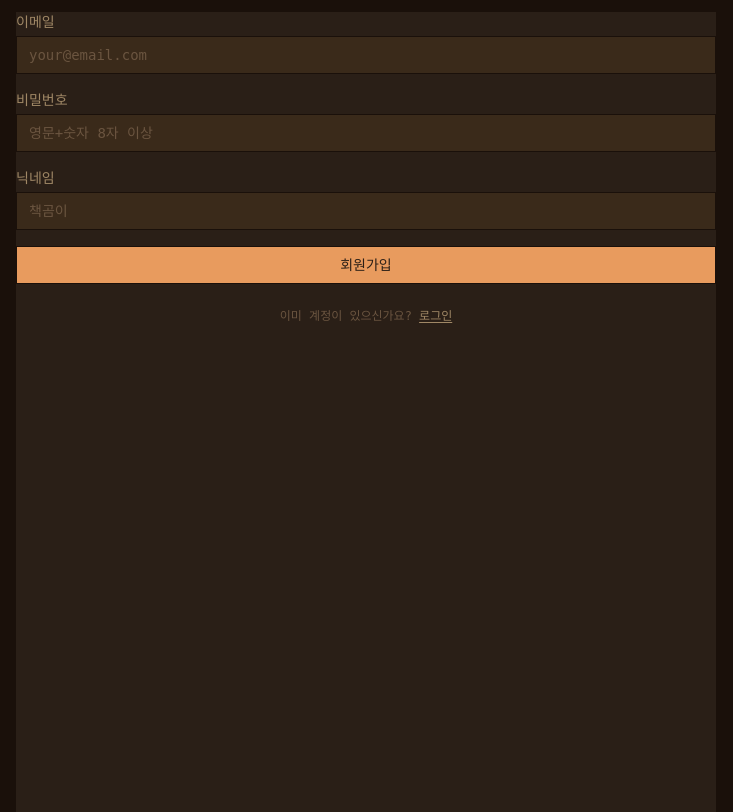
Test case: SignupForm › VALIDATION_FAILED + fieldErrors 시 해당 필드 아래에 에러 메시지를 표시한다
Type "user@example.com" into the field labelled "이메일". click: x=366, y=55
box: [16,36,716,74]
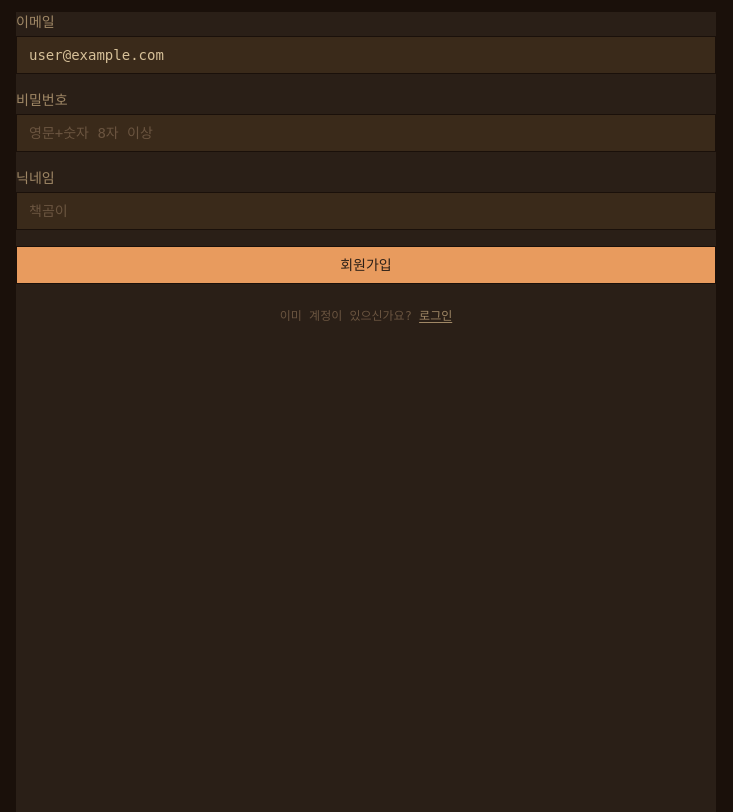
Type "Password1" into the password field labelled "비밀번호". click: x=366, y=133
box: [16,114,716,152]
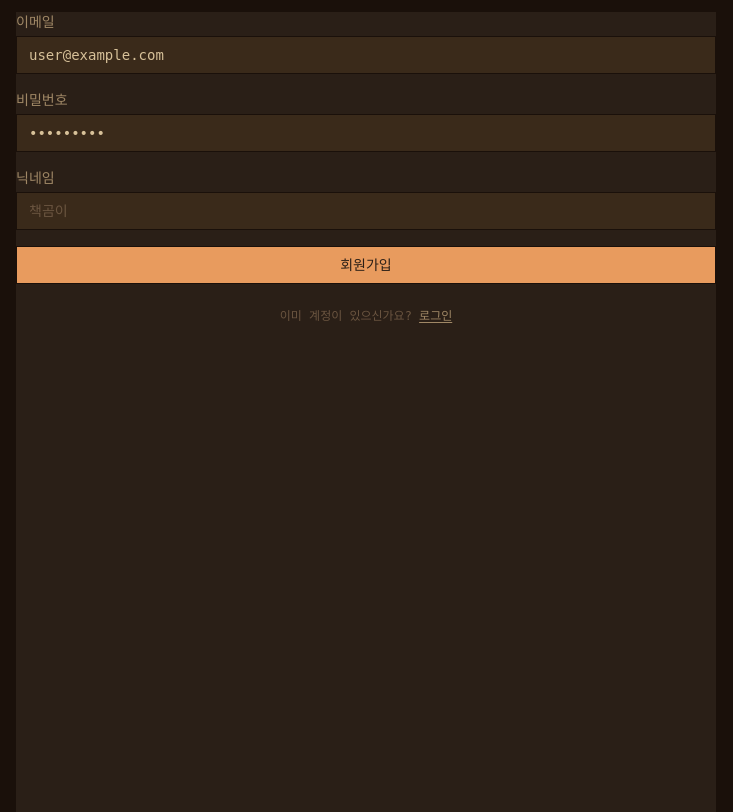
Type "a" into the field labelled "닉네임". click: x=366, y=211
box: [16,192,716,230]
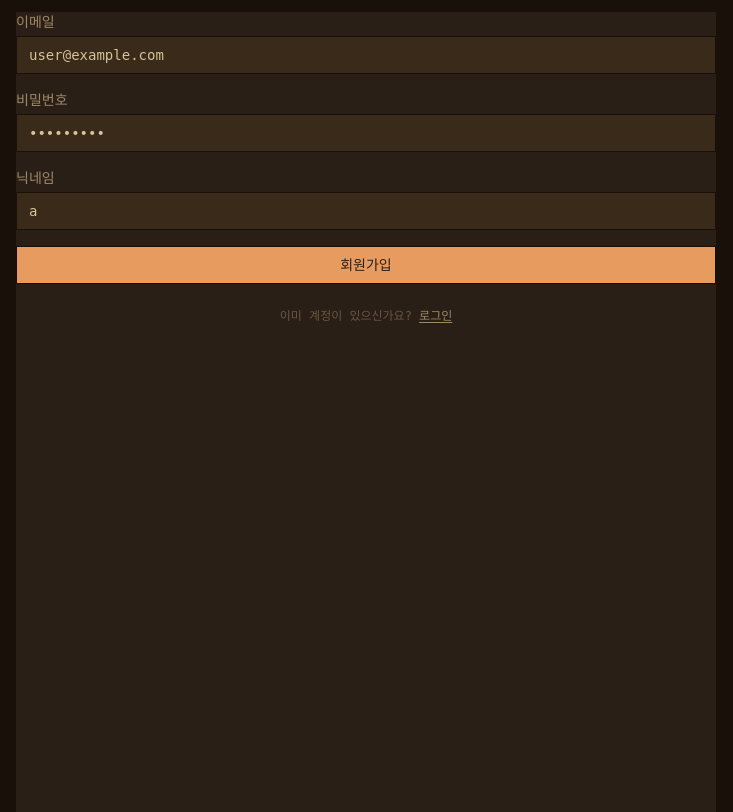
Click the button "회원가입". click: x=366, y=265
box: [16,246,716,284]
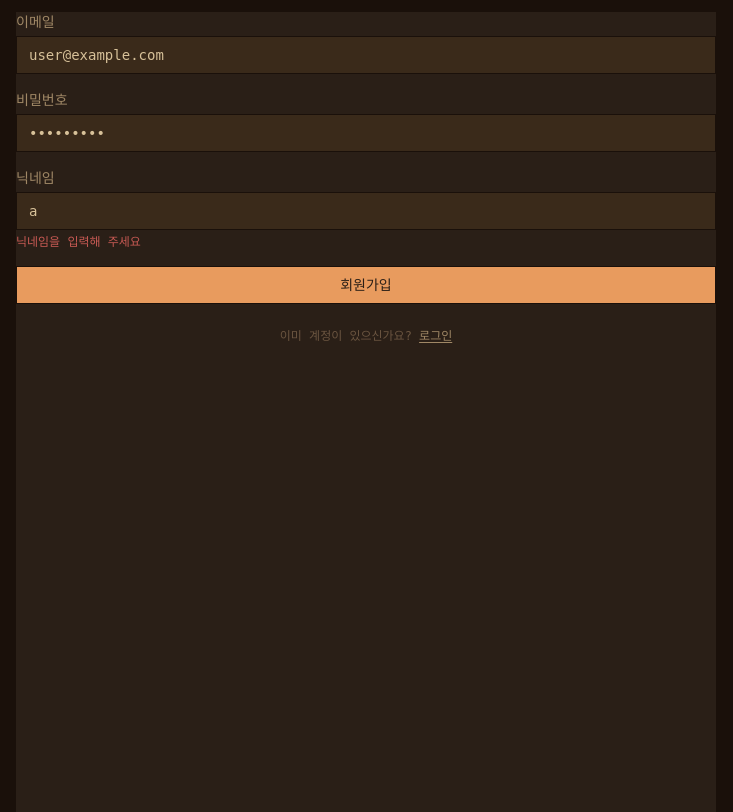
Now the text "닉네임을 입력해 주세요" is shown, box [16,235,141,249]
